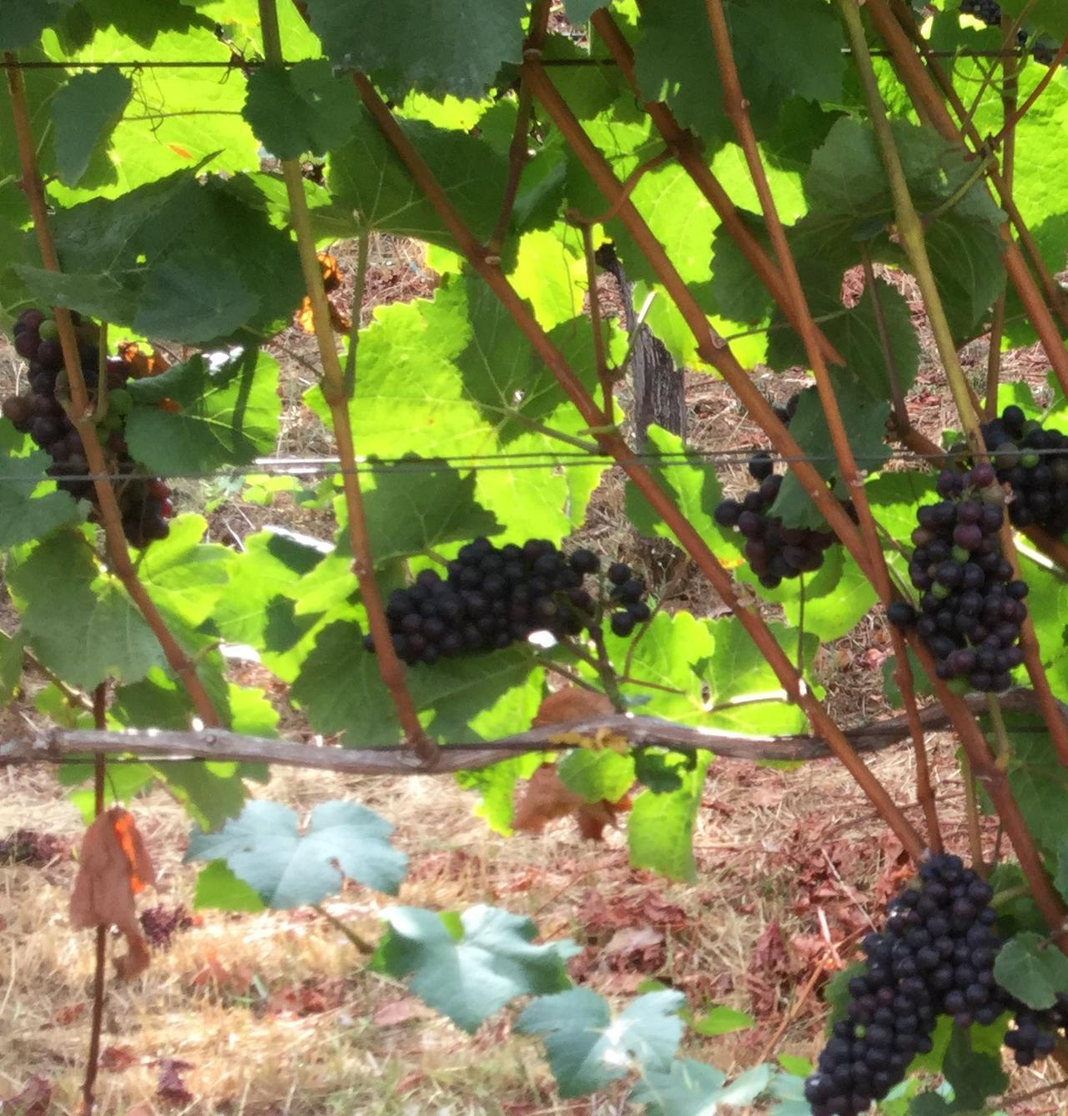Grape Ripe: (782, 847, 1041, 1108), (373, 536, 647, 672), (8, 313, 167, 517), (883, 451, 1019, 684), (697, 463, 839, 601)
